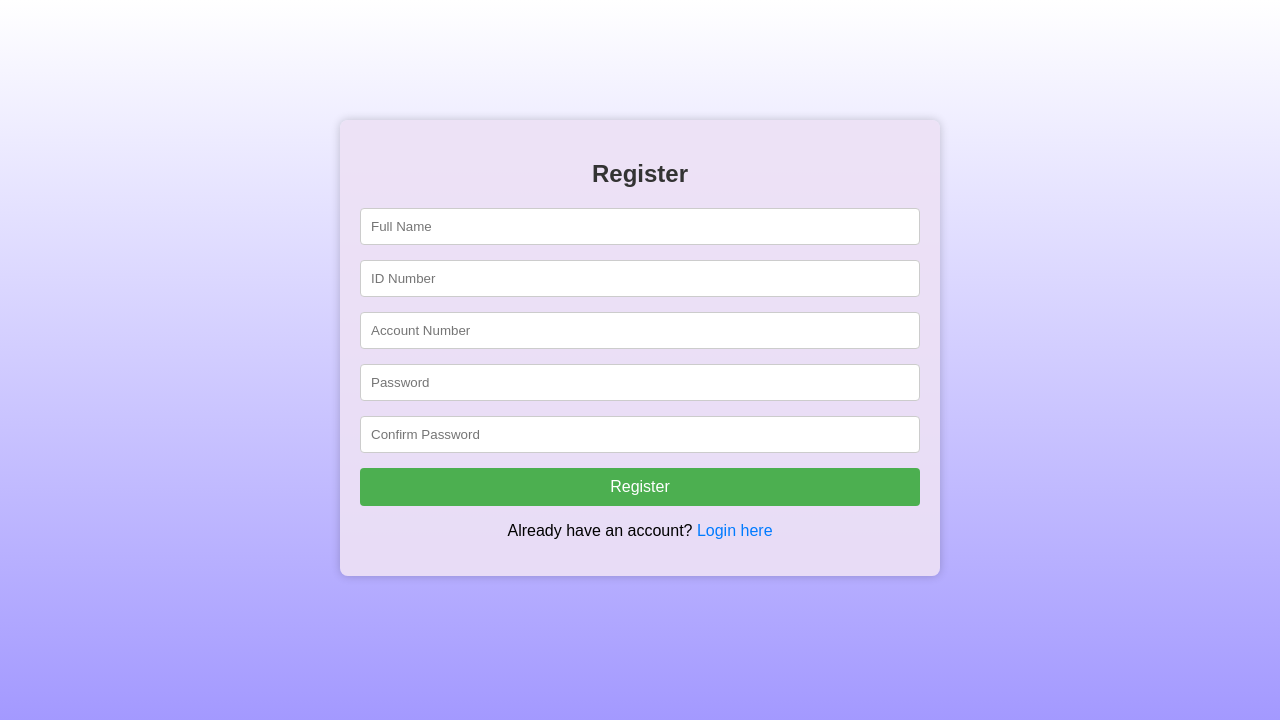
Scenario: Register Component › displays error message for invalid password
This screenshot has width=1280, height=720.
In the field with placeholder "Full Name": x=640, y=226 [360,208,920,245], type "John Doe"
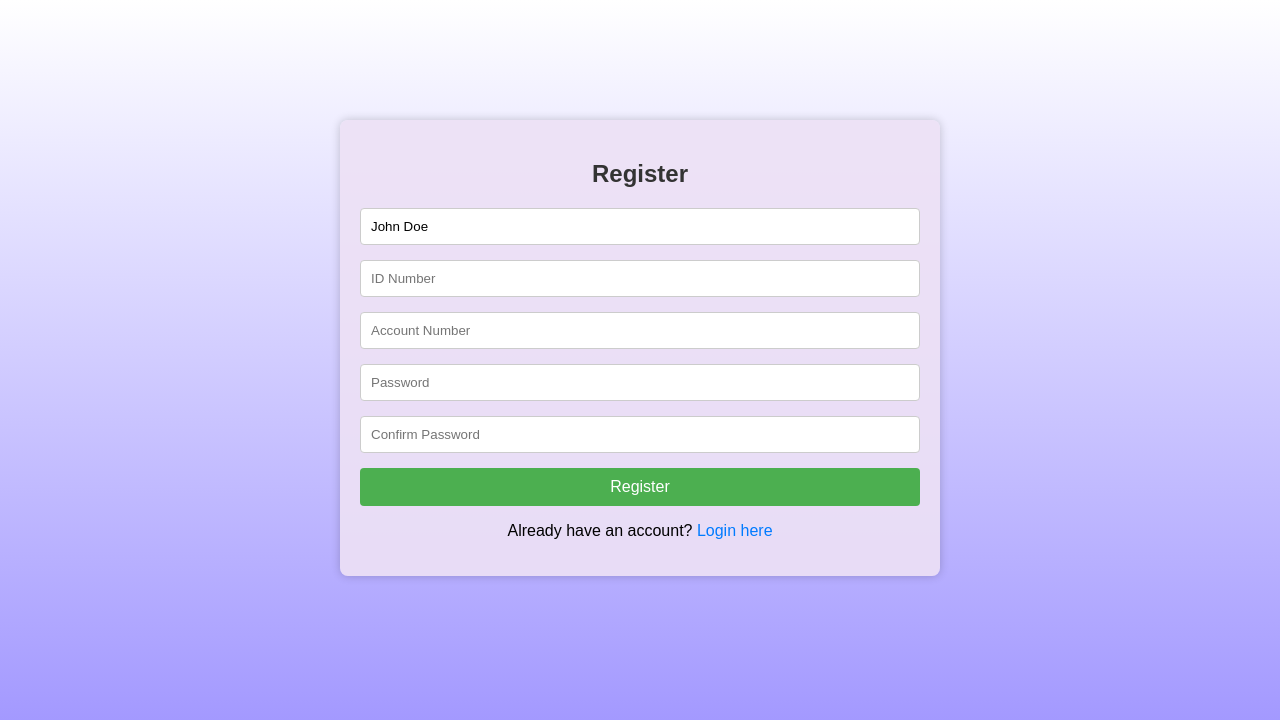
In the field with placeholder "ID Number": x=640, y=278 [360,260,920,297], type "1234567890123"
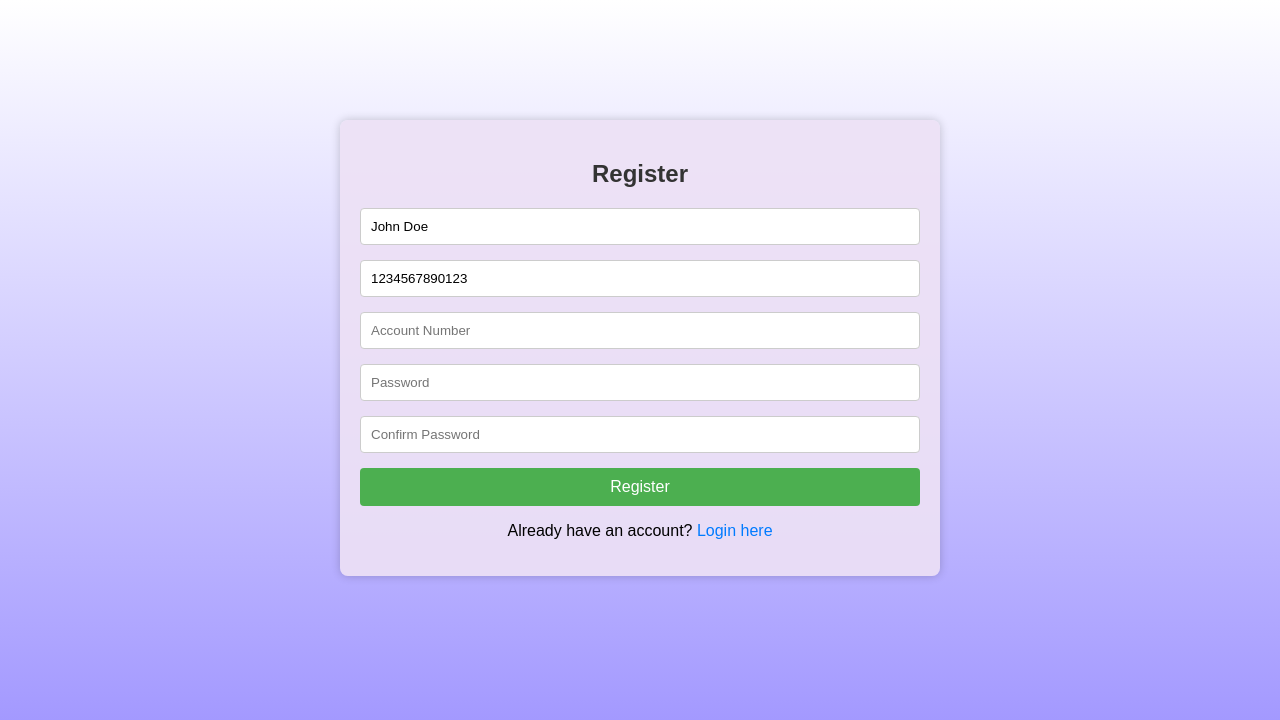
In the field with placeholder "Account Number": x=640, y=330 [360,312,920,349], type "123456789"
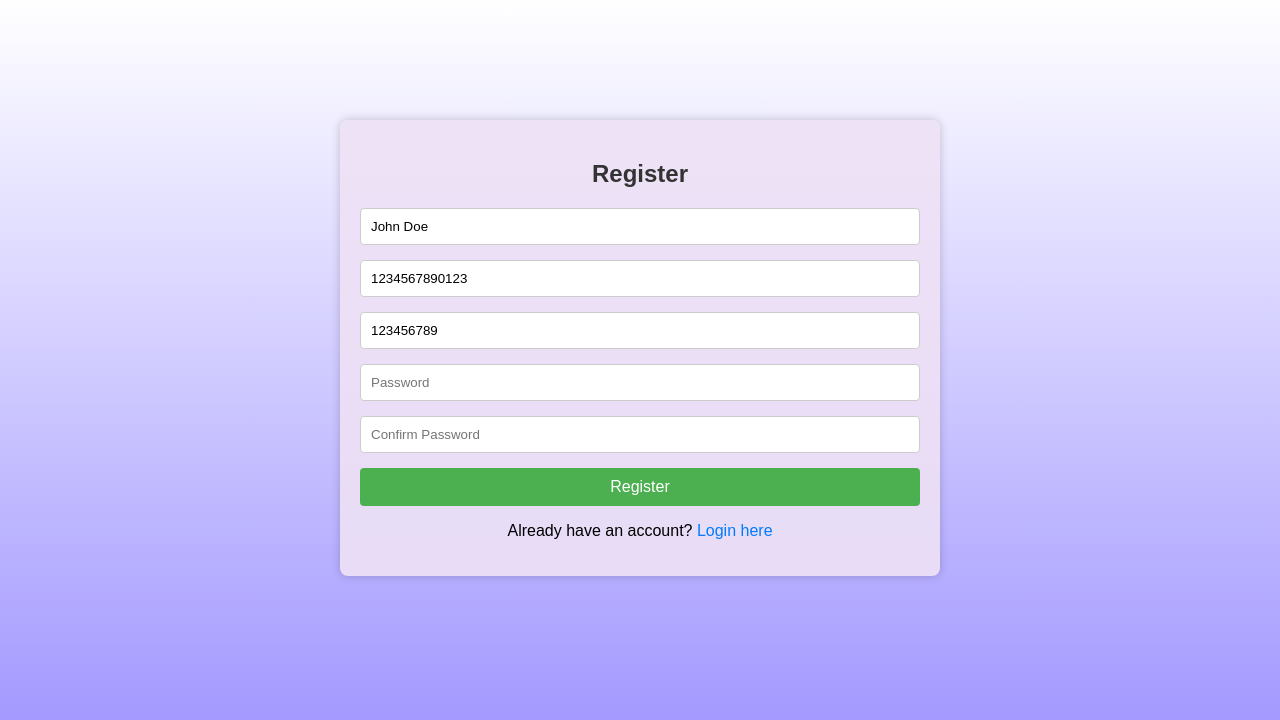
In the password field with placeholder "Password": x=640, y=382 [360,364,920,401], type "short"
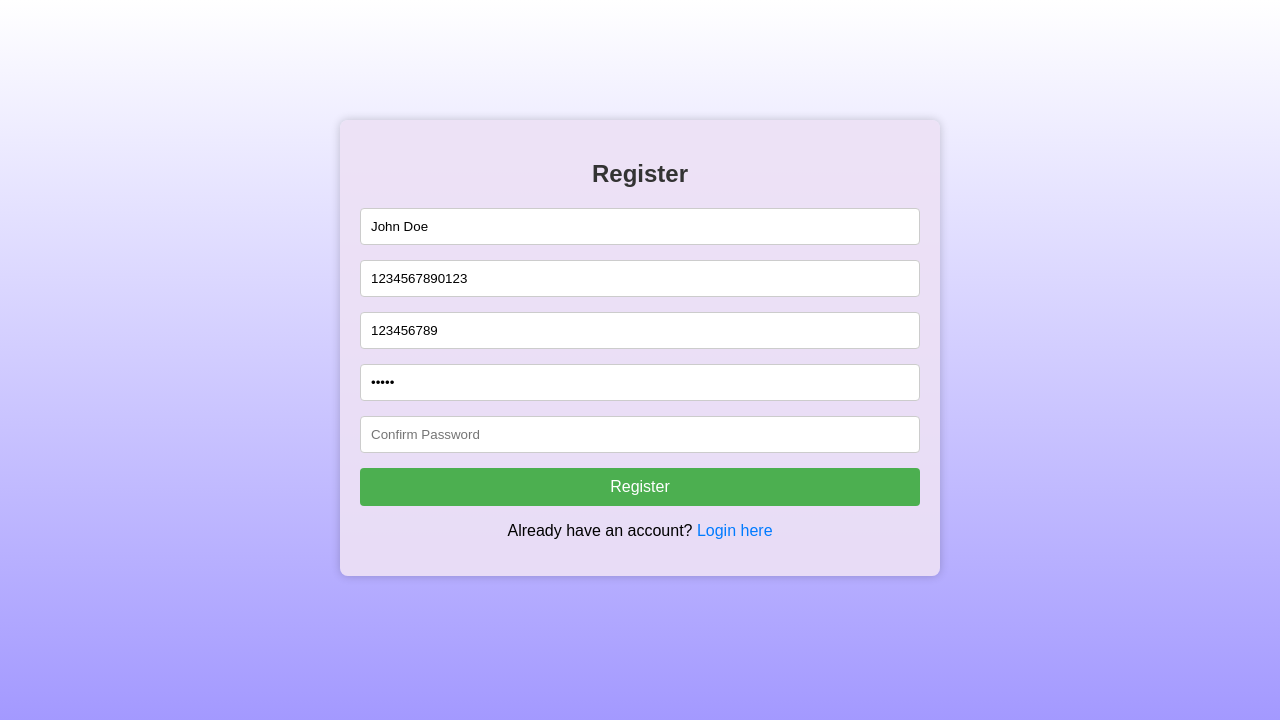
In the password field with placeholder "Confirm Password": x=640, y=434 [360,416,920,453], type "short"
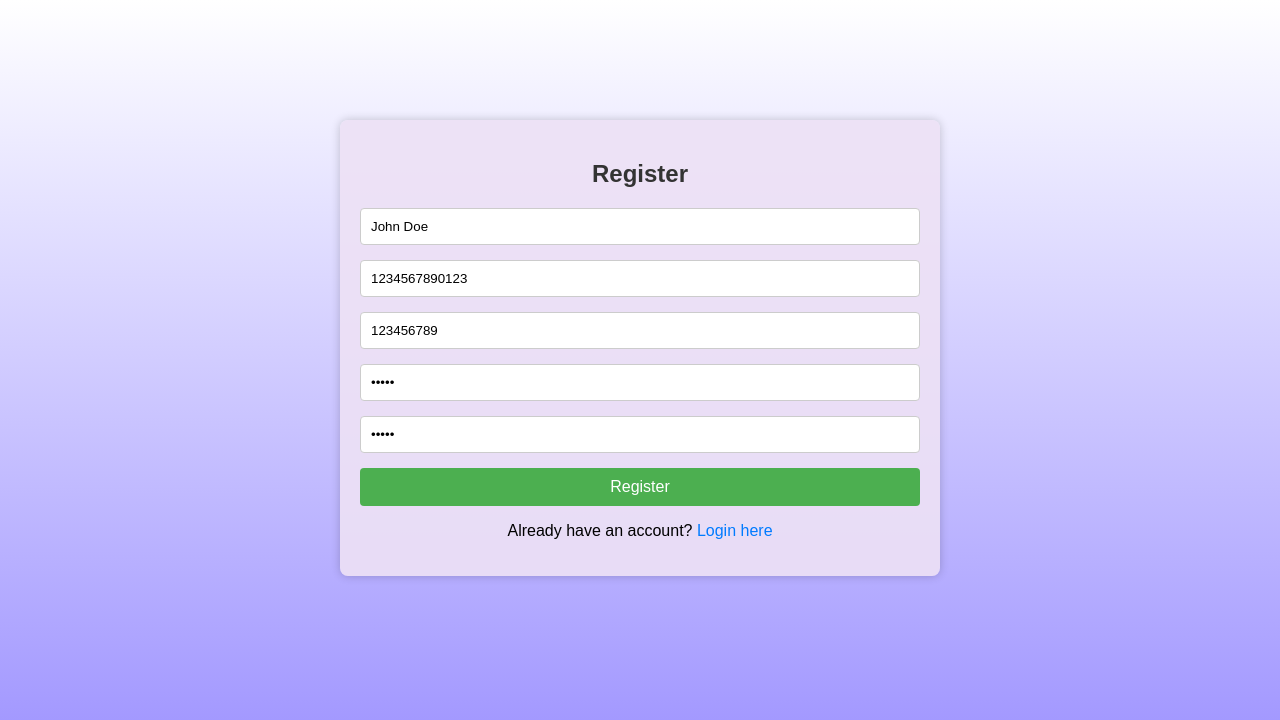
Click the button "Register": x=640, y=487 [360,468,920,506]
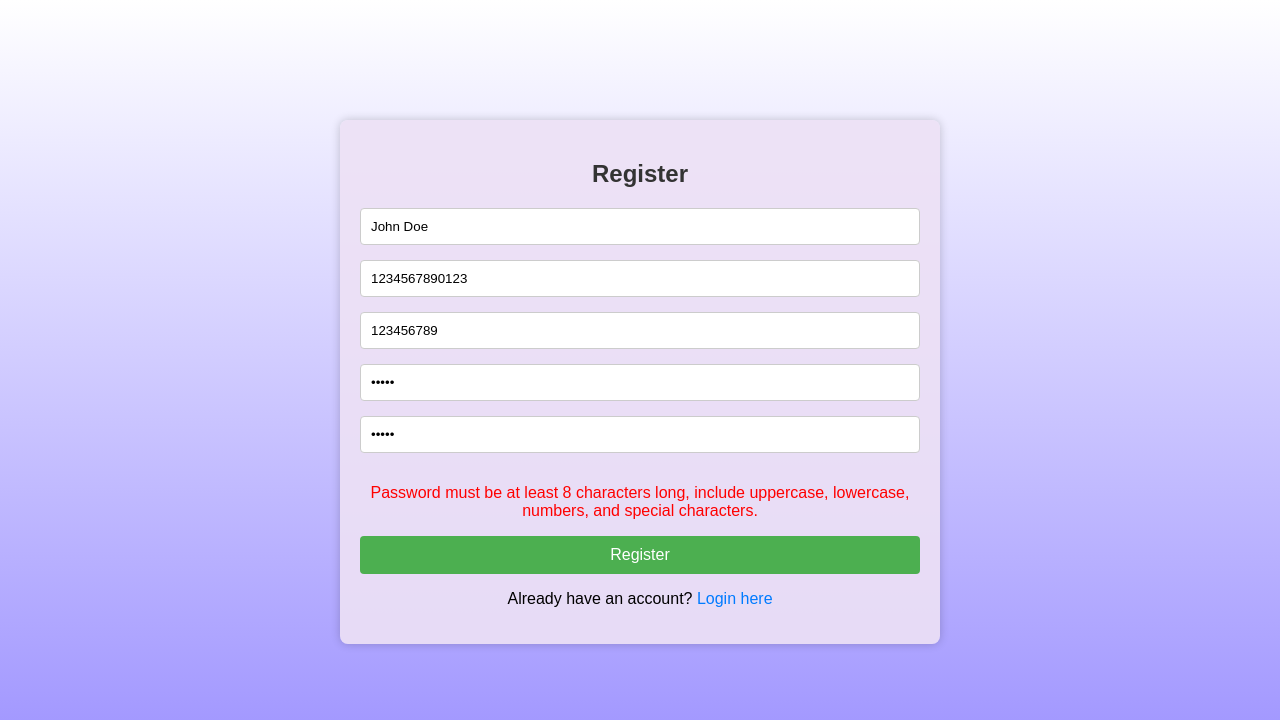
Expected: the text "Password must be at least 8 characters long, include uppercase, lowercase, numbers, and special characters" is shown, [370,484,910,519]
